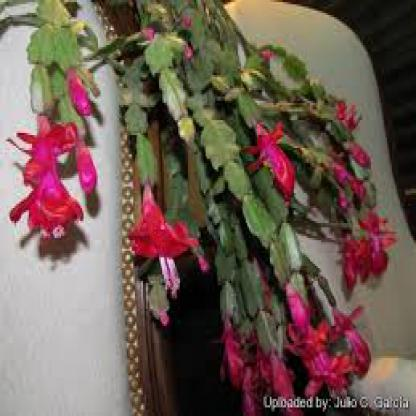Aglonema: (18, 60, 403, 401)
